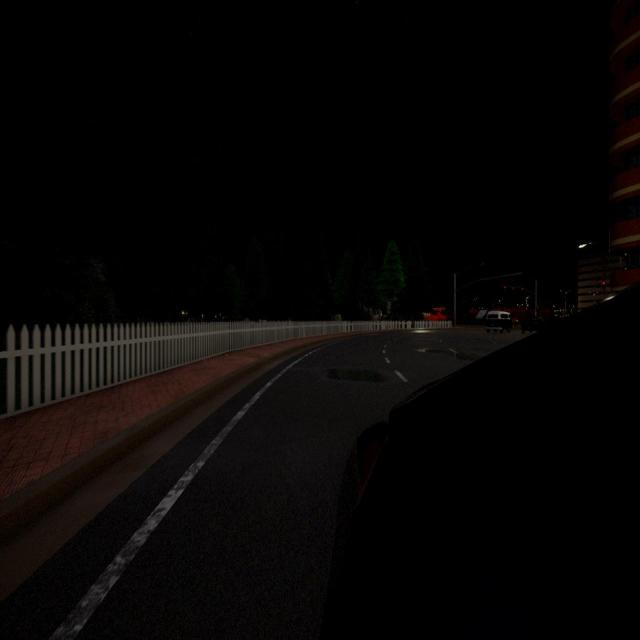Vehicle: (316, 282, 640, 640), (486, 311, 512, 333), (521, 314, 541, 334), (423, 306, 446, 321)
traffic_light: (602, 282, 605, 288), (536, 306, 538, 311), (504, 285, 506, 289), (512, 286, 514, 290), (522, 287, 524, 290)
